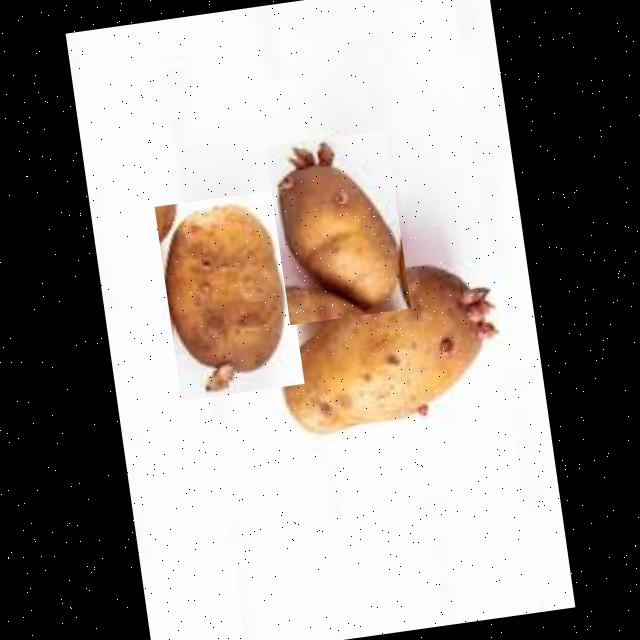Sprouted potato: (262, 258, 519, 449), (154, 189, 304, 400), (265, 129, 411, 324)
